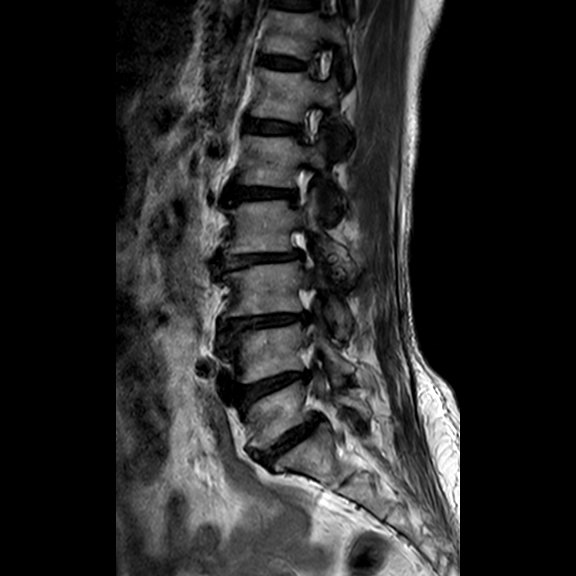LFS0: (282, 155, 324, 217)
